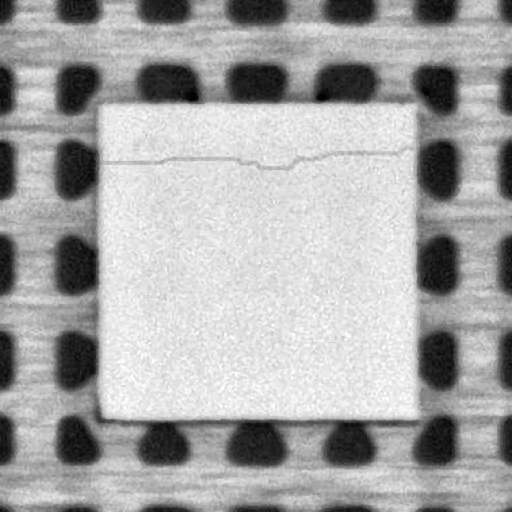DIE_CRACK: (98, 146, 414, 170)
